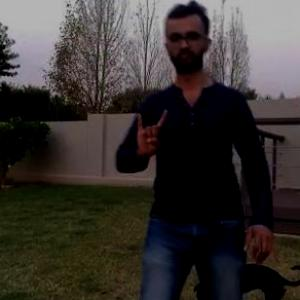takeoff-hand: (128, 100, 172, 166)
